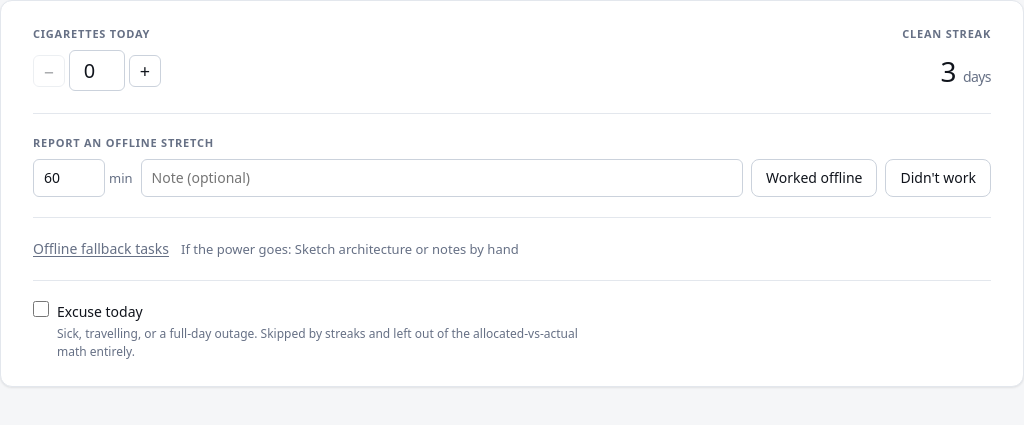
cigarette counter › resets the streak display when today is not clean
This screenshot has width=1024, height=425.
Step 1. Click the button named "one more cigarette" → [145, 70], box [129,54,161,86]
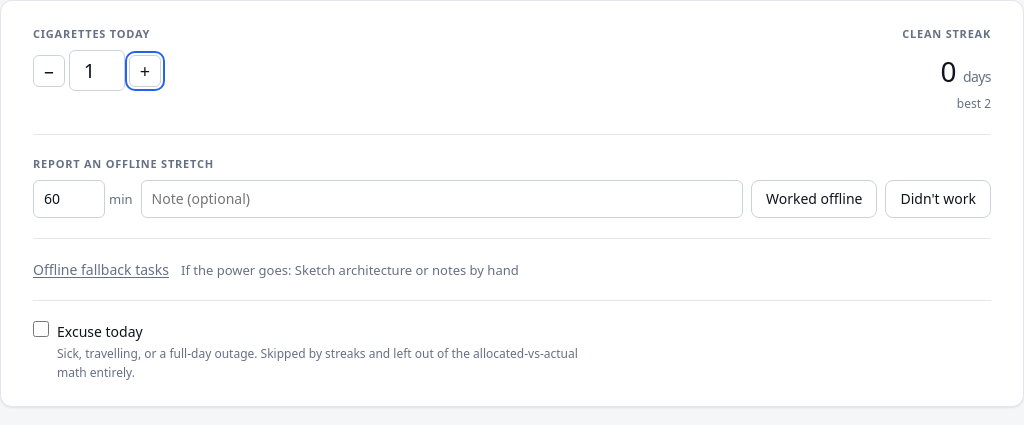
Expected: the text "best 2" is shown, [957,95,991,112]
